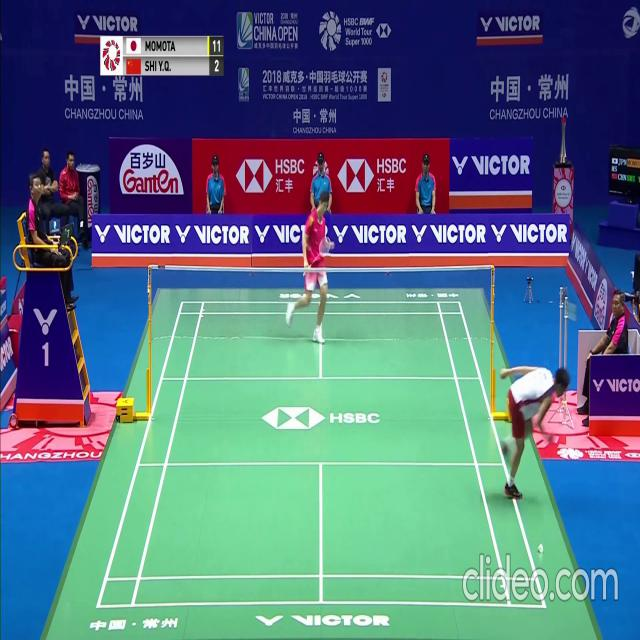Shuttlecock: (537, 544, 542, 551)
